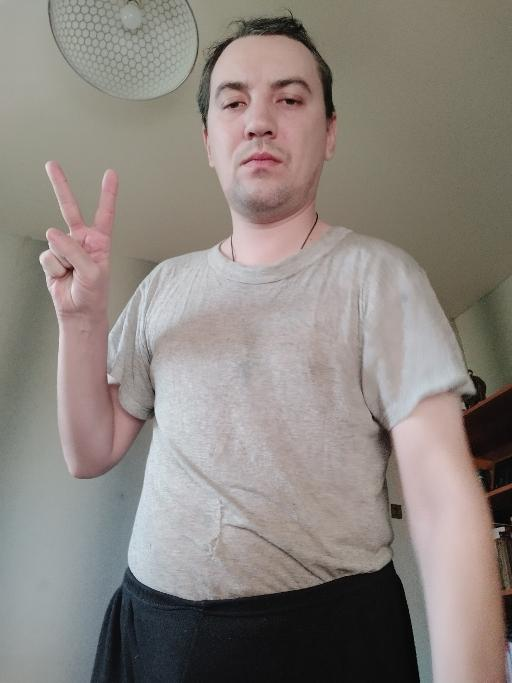peace: (36, 157, 122, 321)
